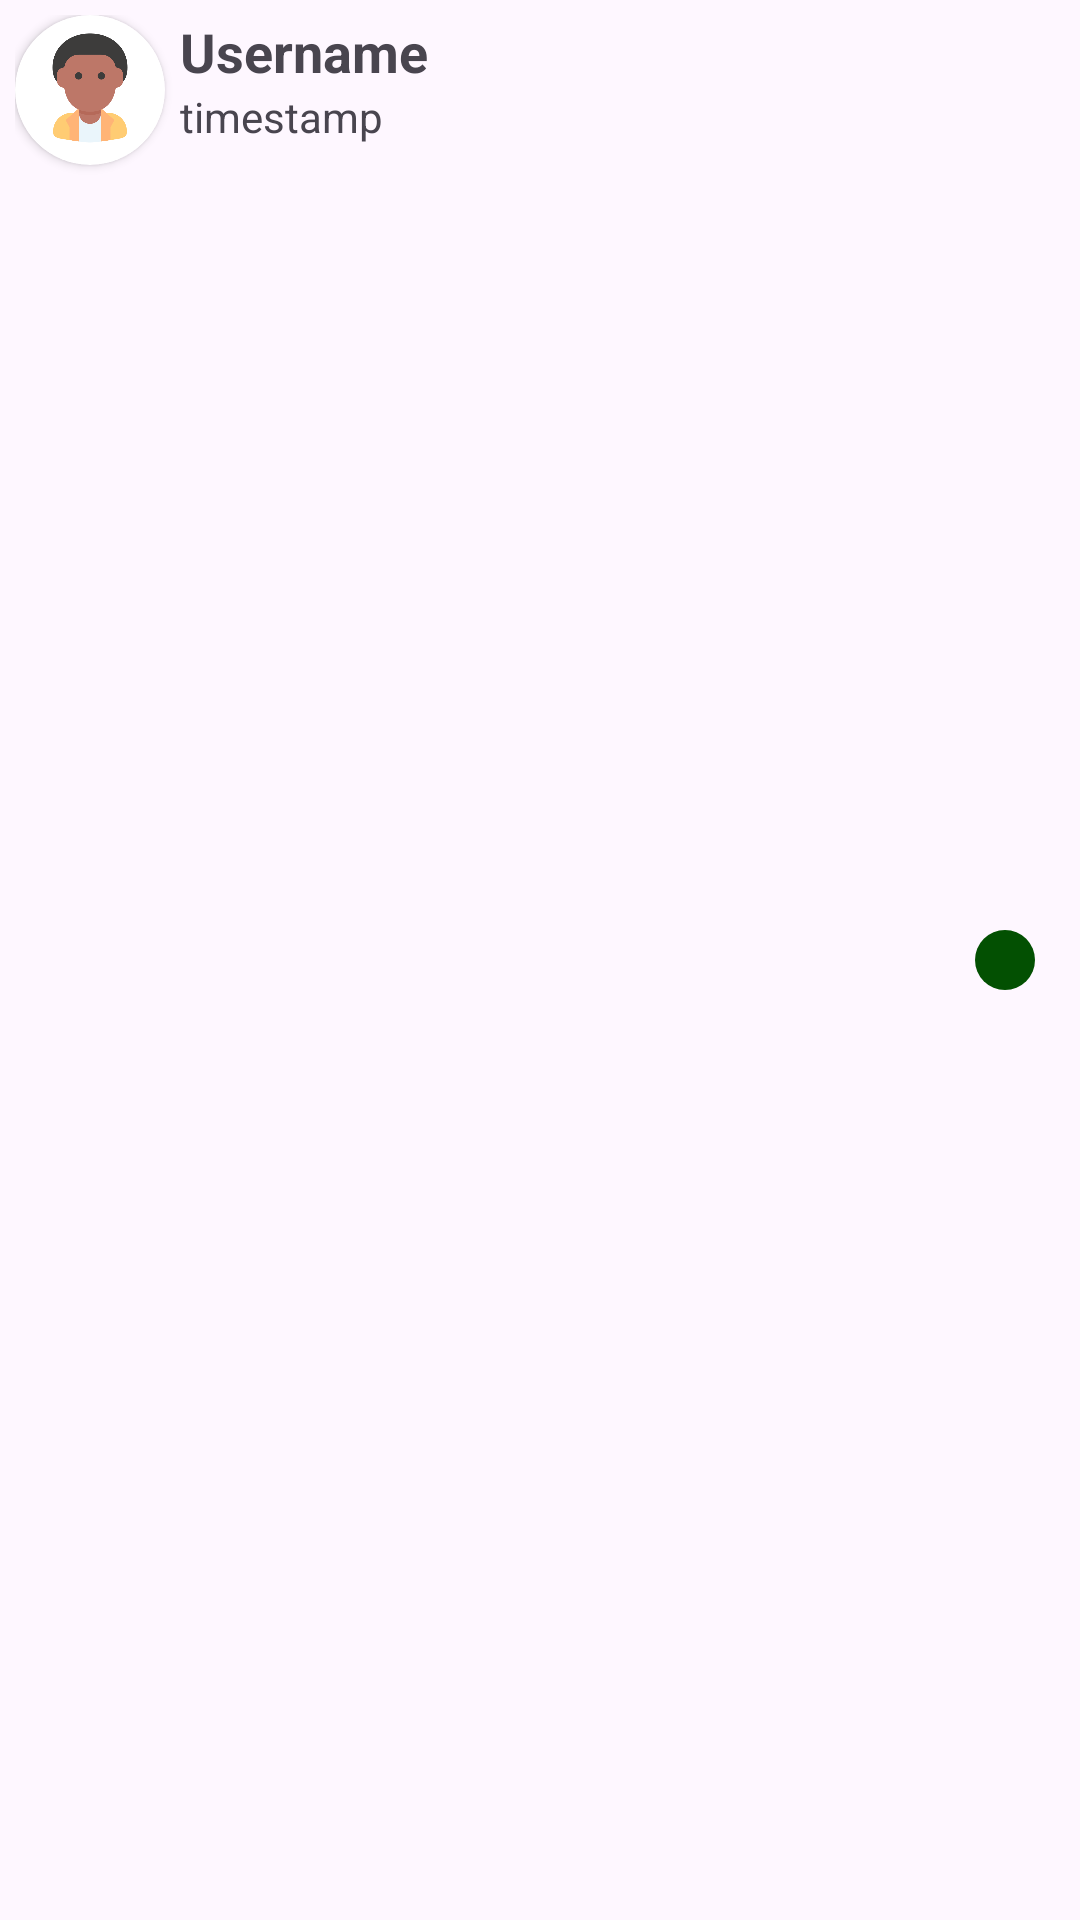

Where icons sit on this 1080x1920 app screen, as [left=x1, top=y1, right=x2, bottom=y2]:
Profile: [left=15, top=15, right=165, bottom=165]
